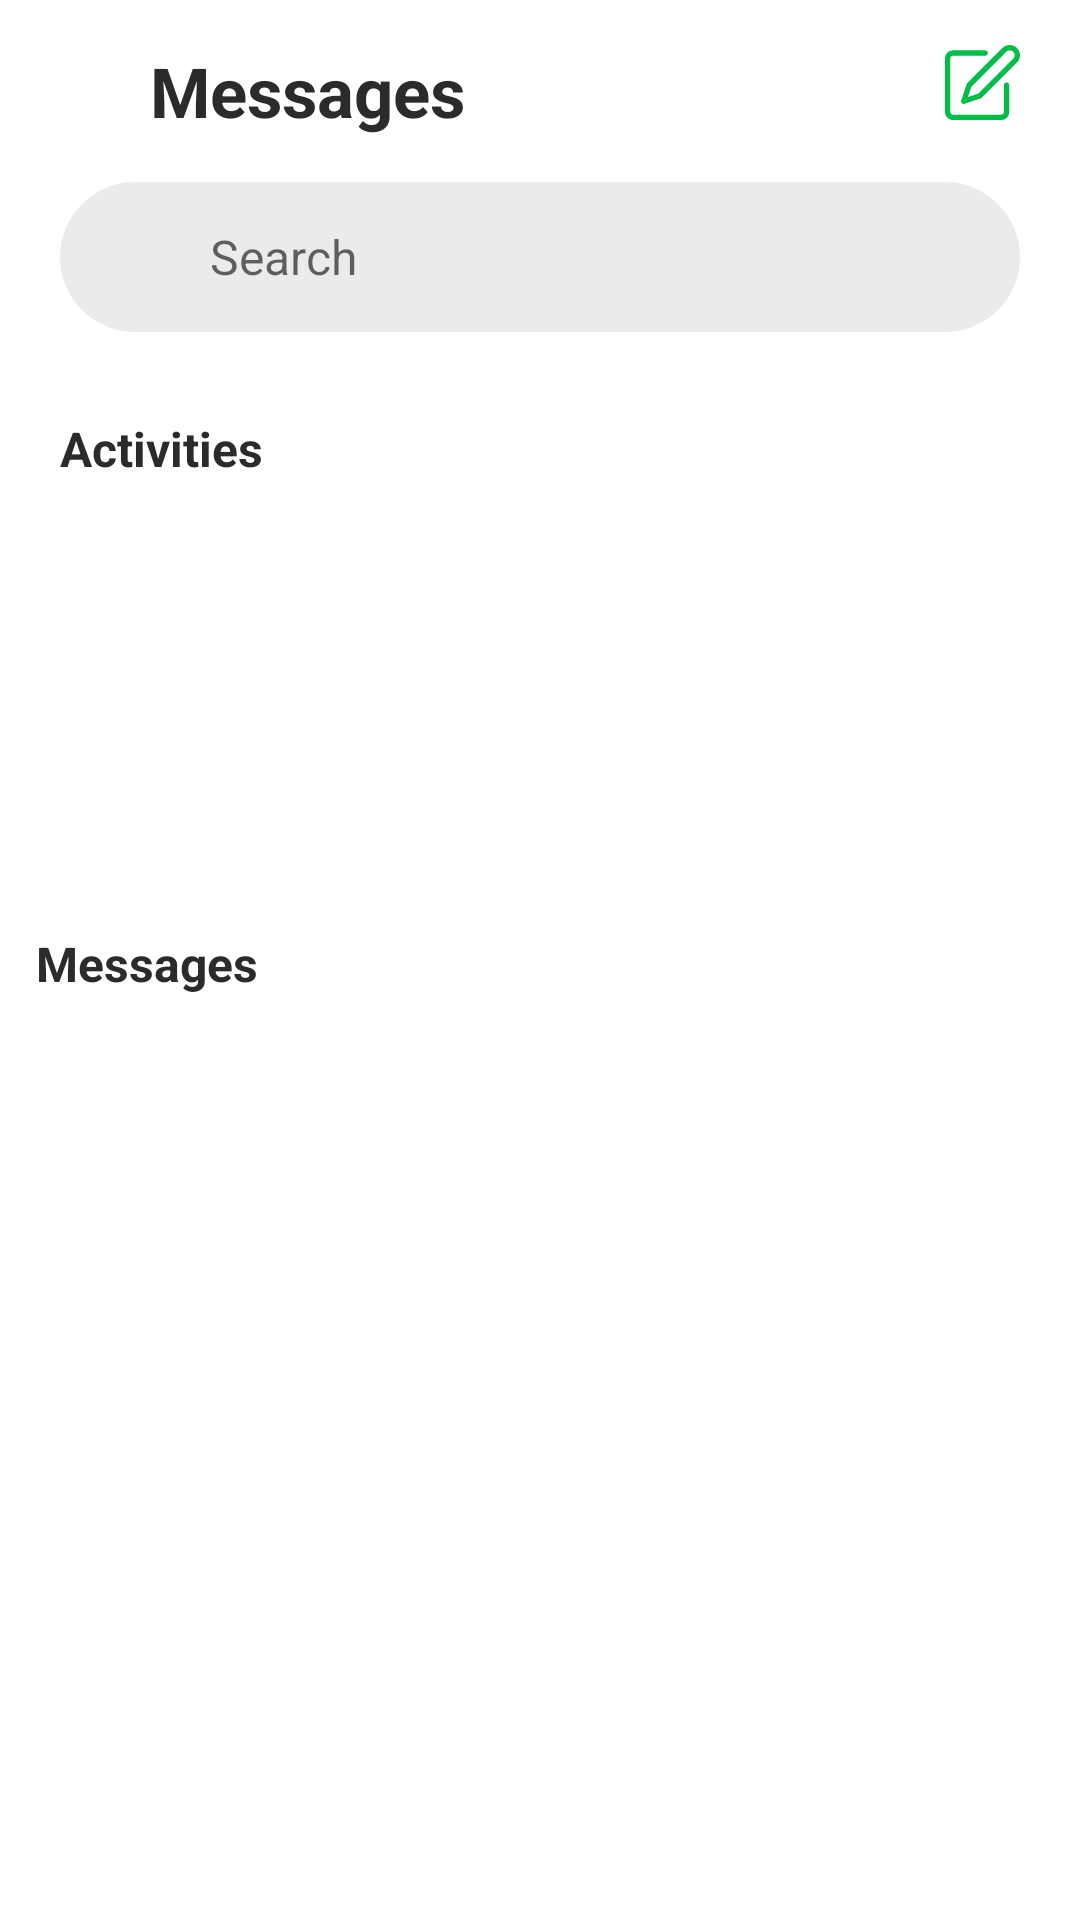

Icon click points for this 1080px×1920px phone screenshot, format (x,y):
edit: (982,82)
